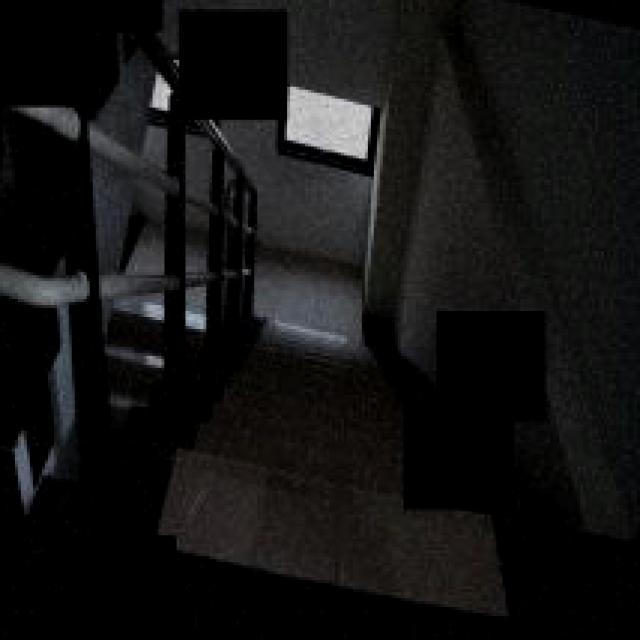downstair: (219, 345, 384, 593)
